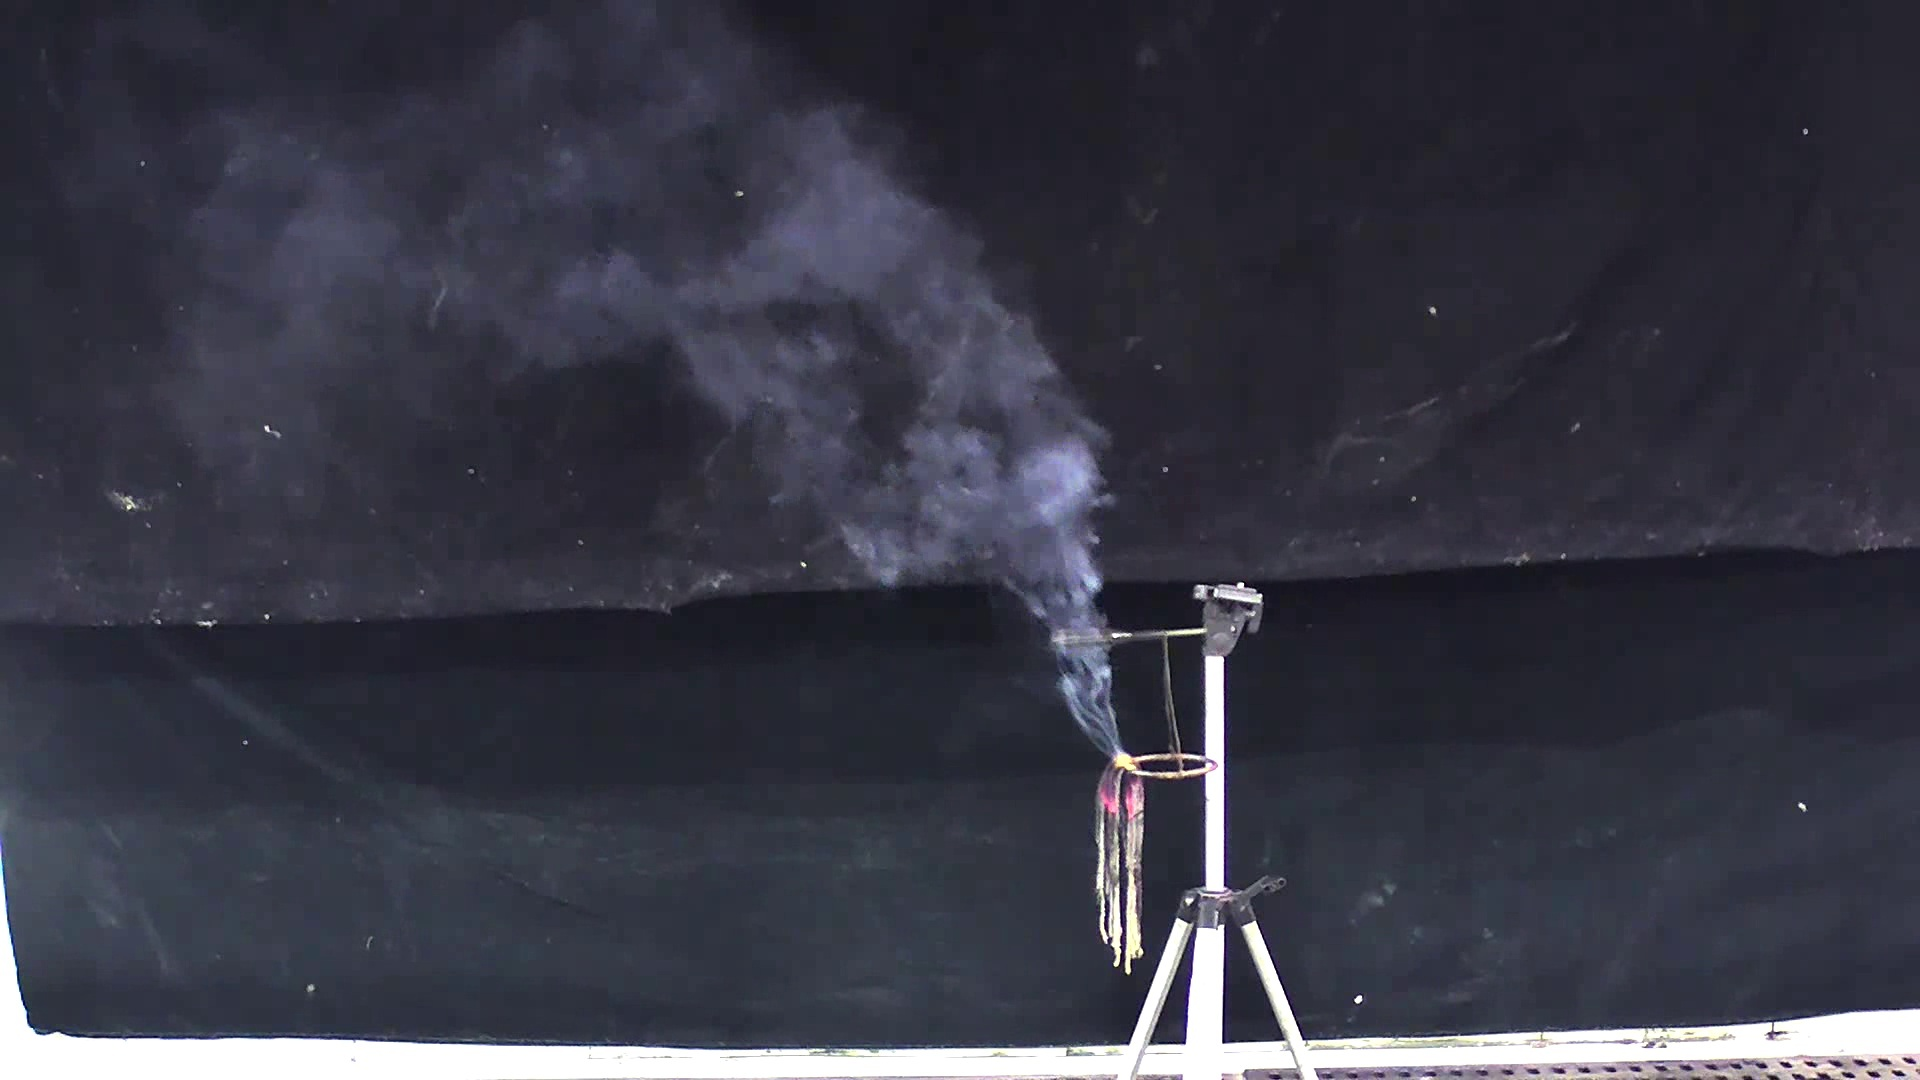smoke: (150, 30, 1125, 738)
